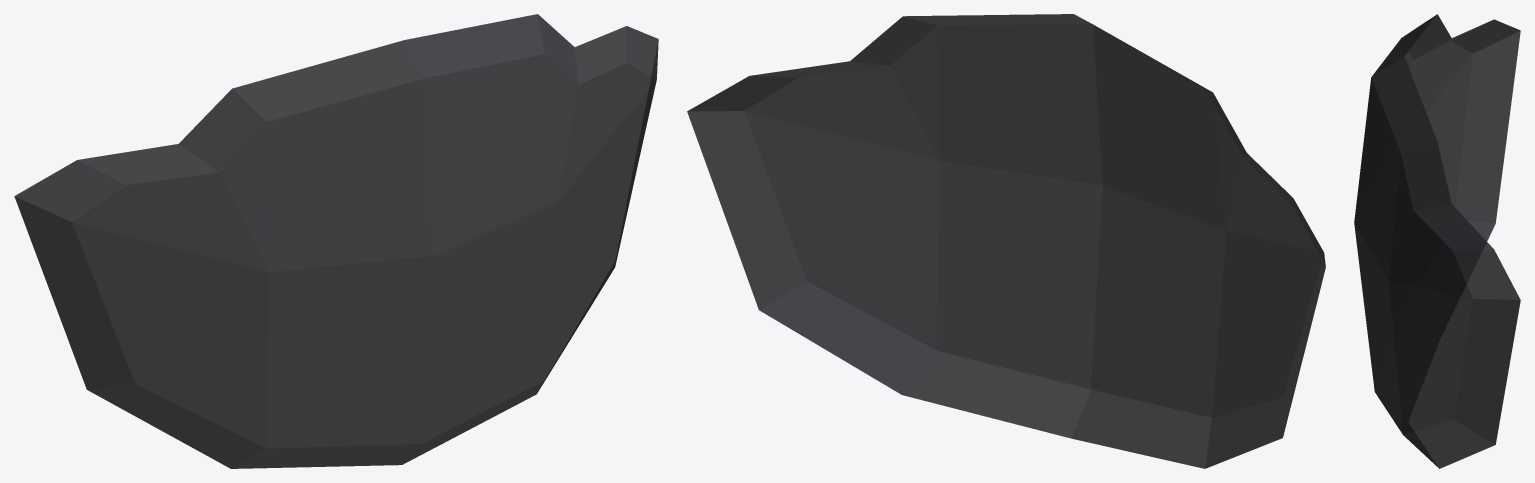
Rendered from SM_Chr_Attach_Bombsuit_Helmet_01_Visor.fbx.
3 views of the same model, side by side, from view 1: azimuth 30°, elevation 25°; view 2: azimuth 150°, elevation 25°; view 3: azimuth 270°, elevation 25° (orthographic). The views are drawn at different scales.
Visible parts, largest first — view 1: SM_Chr_Attach_Bombsuit_Helmet_01_Visor; view 2: SM_Chr_Attach_Bombsuit_Helmet_01_Visor; view 3: SM_Chr_Attach_Bombsuit_Helmet_01_Visor.
Boxes of the visible parts, x1,y1,x2,y2 form: SM_Chr_Attach_Bombsuit_Helmet_01_Visor: (14, 14, 658, 468); SM_Chr_Attach_Bombsuit_Helmet_01_Visor: (687, 14, 1325, 468); SM_Chr_Attach_Bombsuit_Helmet_01_Visor: (1354, 14, 1520, 468).
Bounding box in the file's own units: 30.26 × 19.14 × 7.9.
